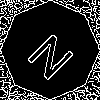N: (25, 25, 83, 83)
